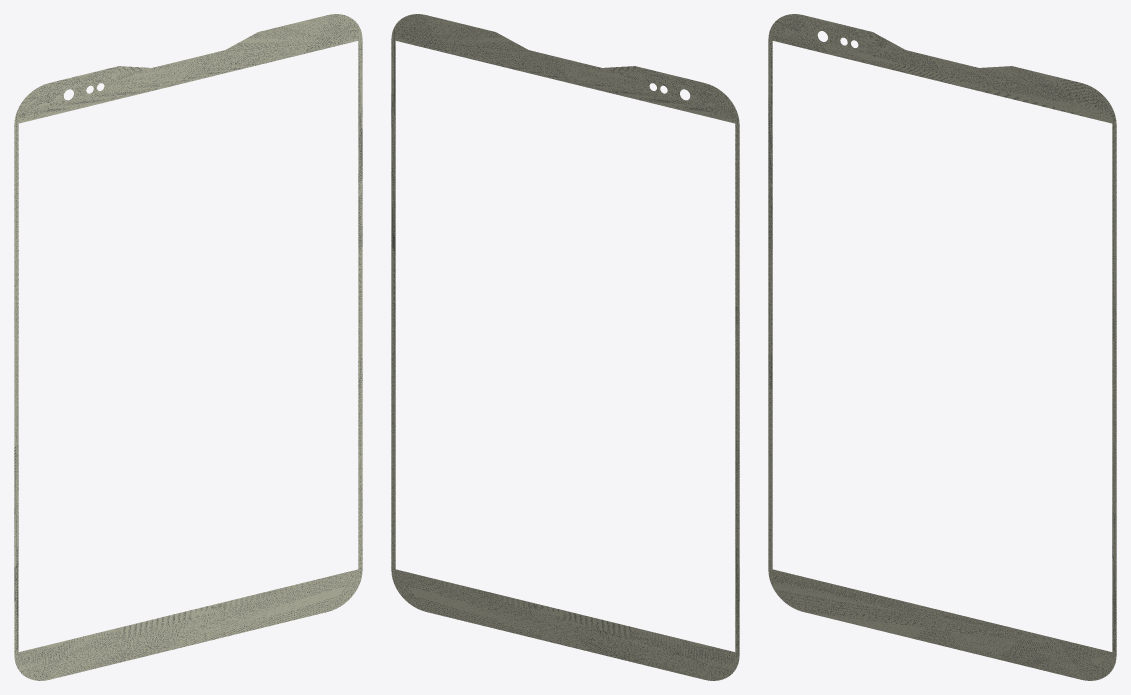
Rendered from original-65.obj.
The picture shows the model from 3 angles, left to right: view 1: azimuth 30°, elevation 25°; view 2: azimuth 150°, elevation 25°; view 3: azimuth 330°, elevation 25°; orthographic projection.
Parts seen in each view (by area): view 1: mesh20/mesh20-geometry/material_6/component_0#mesh20-geometry; view 2: mesh20/mesh20-geometry/material_6/component_0#mesh20-geometry; view 3: mesh20/mesh20-geometry/material_6/component_0#mesh20-geometry.
Boxes of the visible parts, box(x1,y1,x2,y2) form: mesh20/mesh20-geometry/material_6/component_0#mesh20-geometry: box(14, 14, 362, 680); mesh20/mesh20-geometry/material_6/component_0#mesh20-geometry: box(391, 14, 739, 680); mesh20/mesh20-geometry/material_6/component_0#mesh20-geometry: box(768, 14, 1116, 680).
Size of the model in its own units: 0.9594 by 1.57 by 0.
